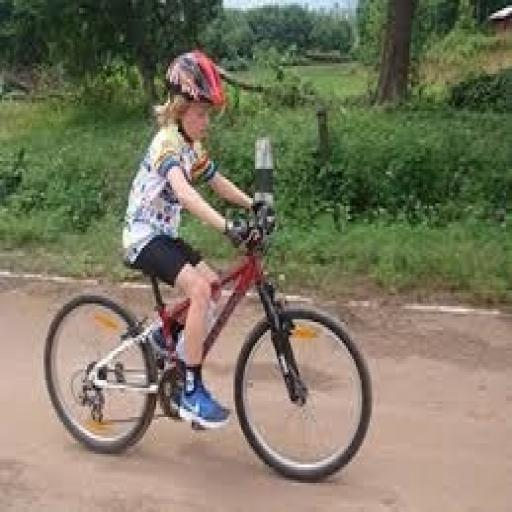cycling: (118, 47, 278, 433)
